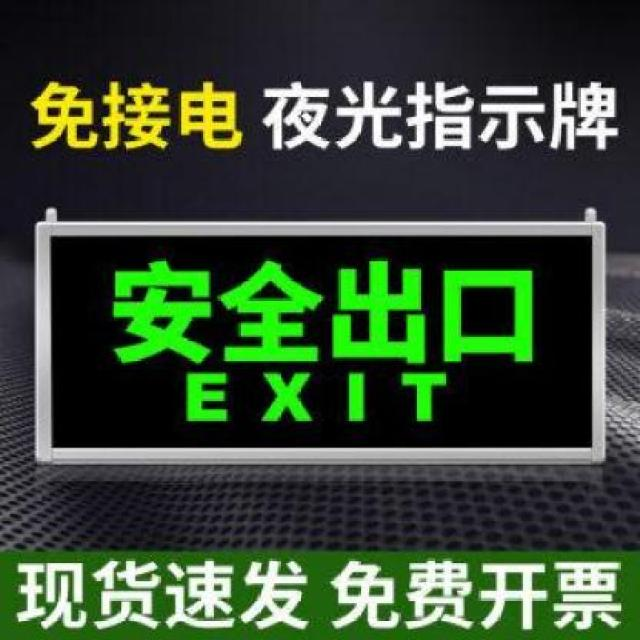exit_sign: (28, 206, 614, 468)
